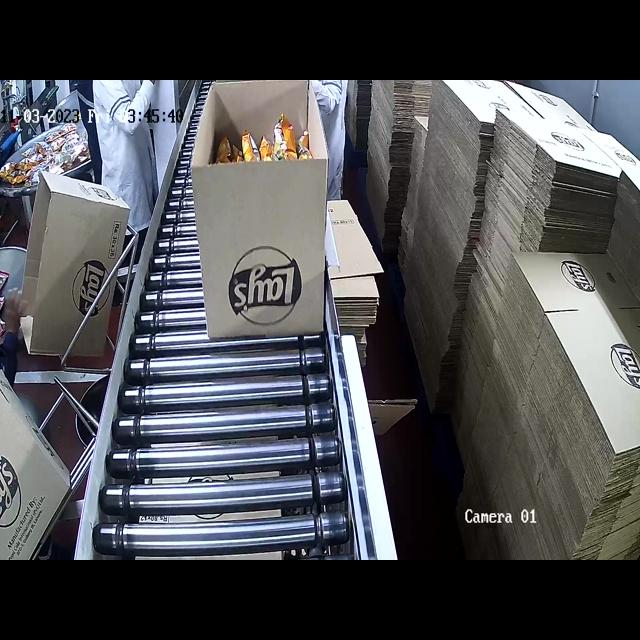cheese: (211, 118, 318, 174)
